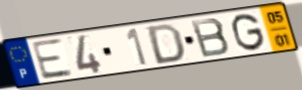1: (125, 27, 150, 67)
4: (74, 33, 104, 75)
B: (188, 16, 232, 59)
D: (146, 22, 186, 66)
E: (29, 37, 76, 82)
G: (230, 12, 267, 53)
